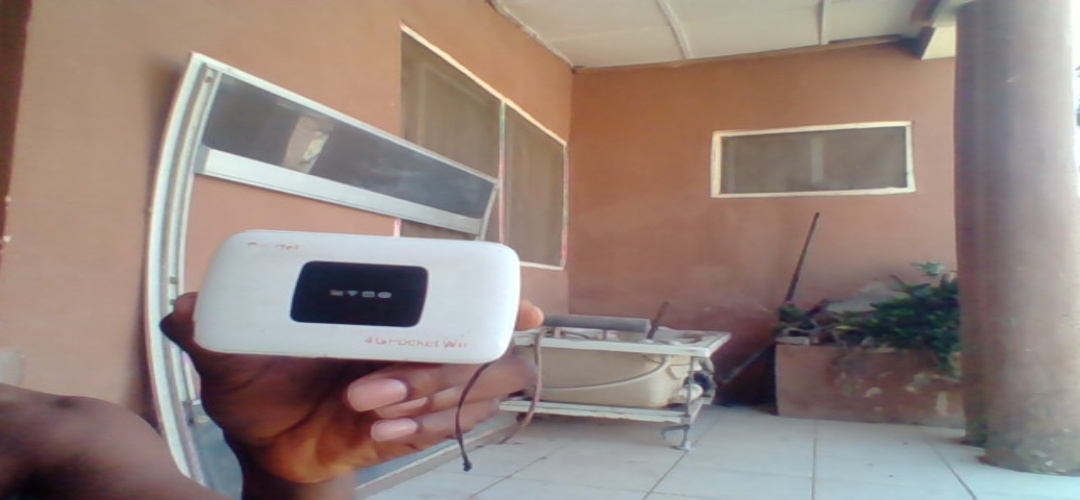mifi: (188, 226, 522, 368)
